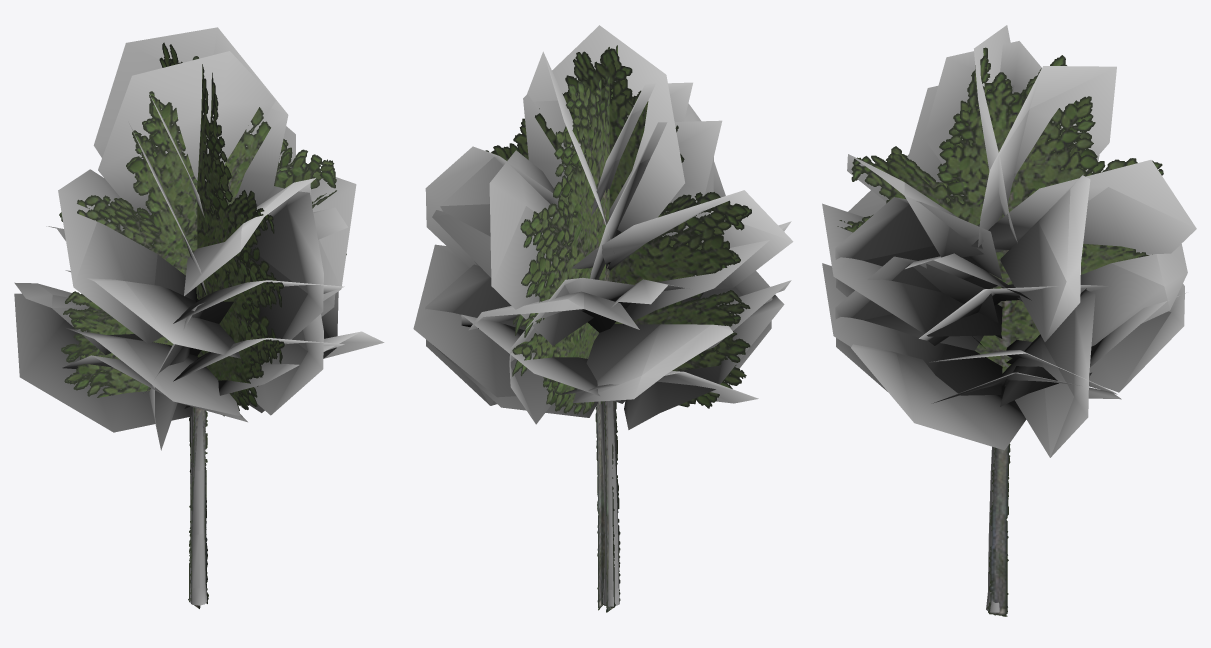
File: Aspen_03.fbx
3 renders of one model, left to right at view 1: azimuth 30°, elevation 25°; view 2: azimuth 150°, elevation 25°; view 3: azimuth 270°, elevation 25°, orthographic. The views are drawn at different scales.
Visible parts, largest first — view 1: Aspen_03_LOD0, Billboard_Aspen_03; view 2: Aspen_03_LOD0, Billboard_Aspen_03; view 3: Aspen_03_LOD0, Billboard_Aspen_03.
Boxes of the visible parts, box(x1,y1,x2,y2) form: Aspen_03_LOD0: box(14, 27, 384, 605); Billboard_Aspen_03: box(59, 42, 346, 608); Aspen_03_LOD0: box(413, 25, 793, 606); Billboard_Aspen_03: box(485, 45, 751, 612); Aspen_03_LOD0: box(822, 25, 1196, 612); Billboard_Aspen_03: box(837, 47, 1163, 616).
Size of what is drawn, in the model's own units: 144 by 254 by 140.
